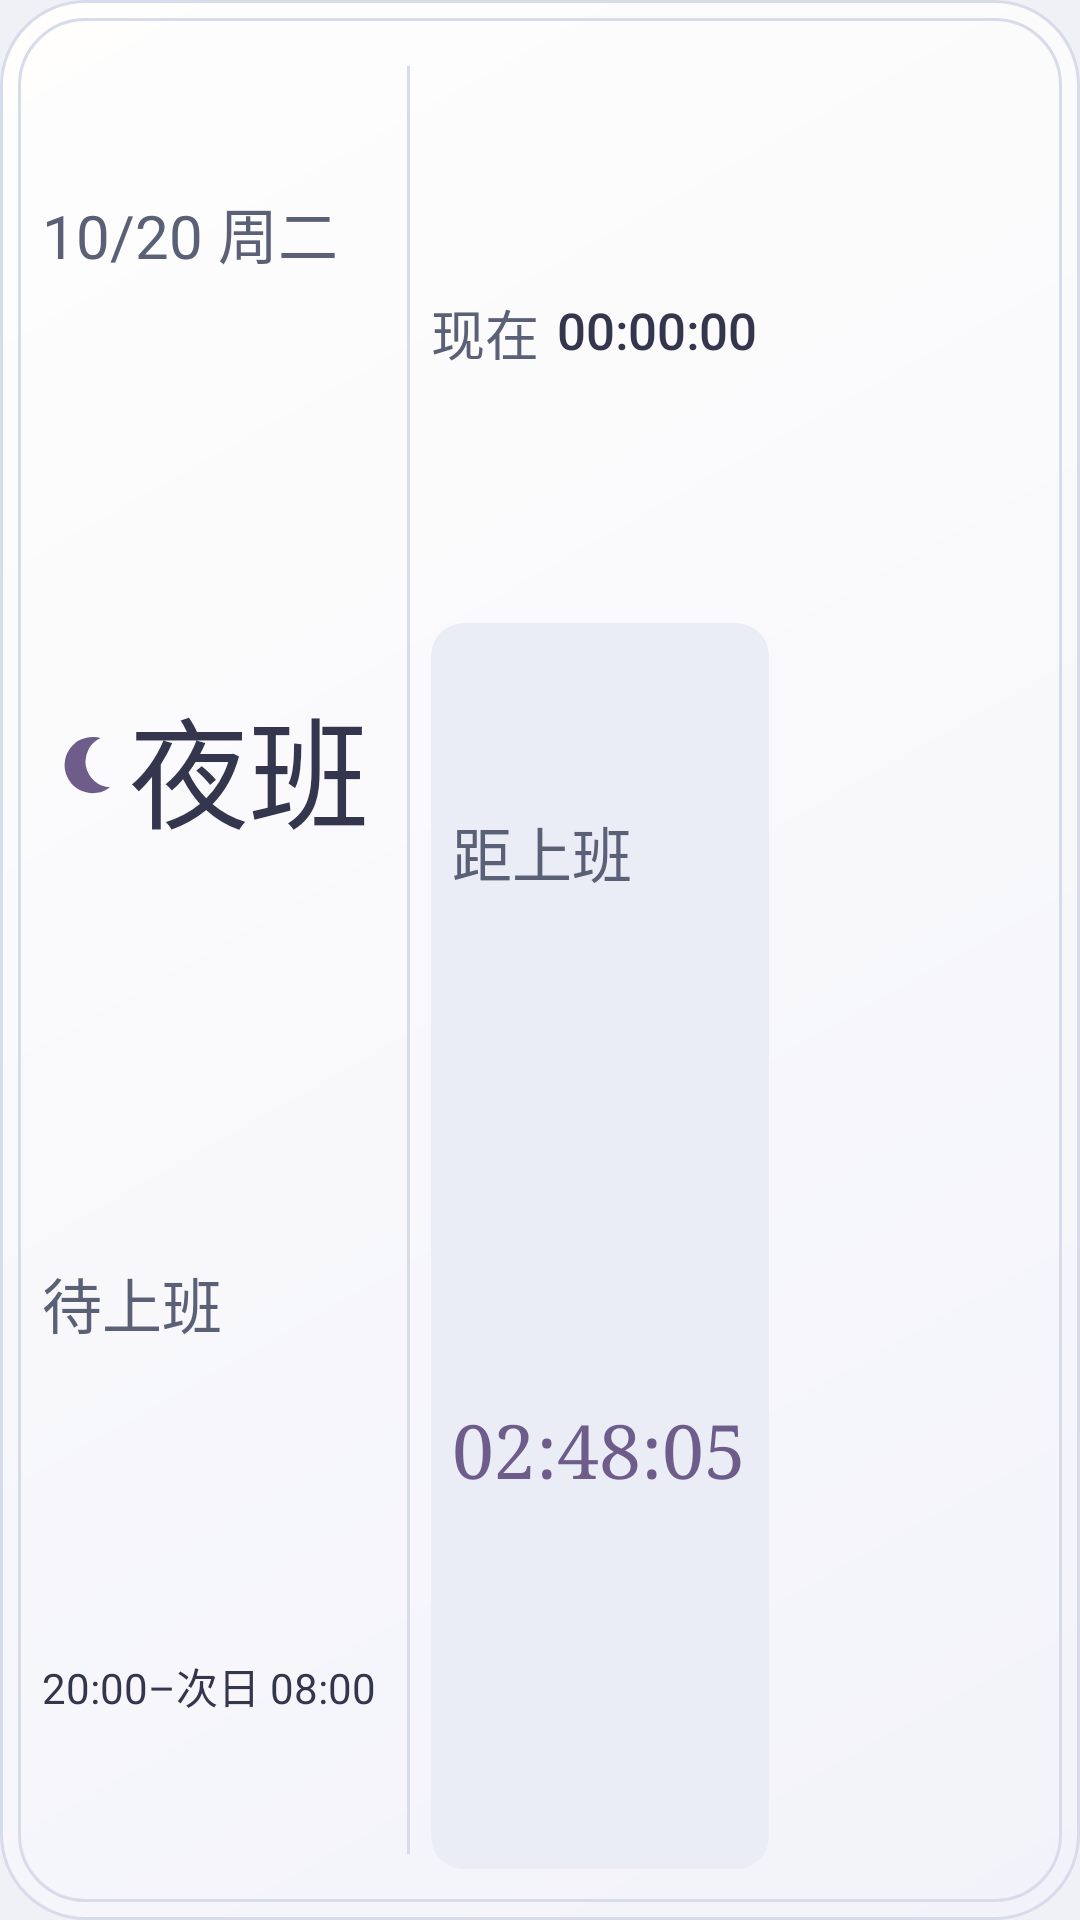

Icon bounding boxes for this 1080w x 1920h phone screenshot, format (x1, y1, x2, y2):
widget symbol night: (64, 737, 110, 794)
